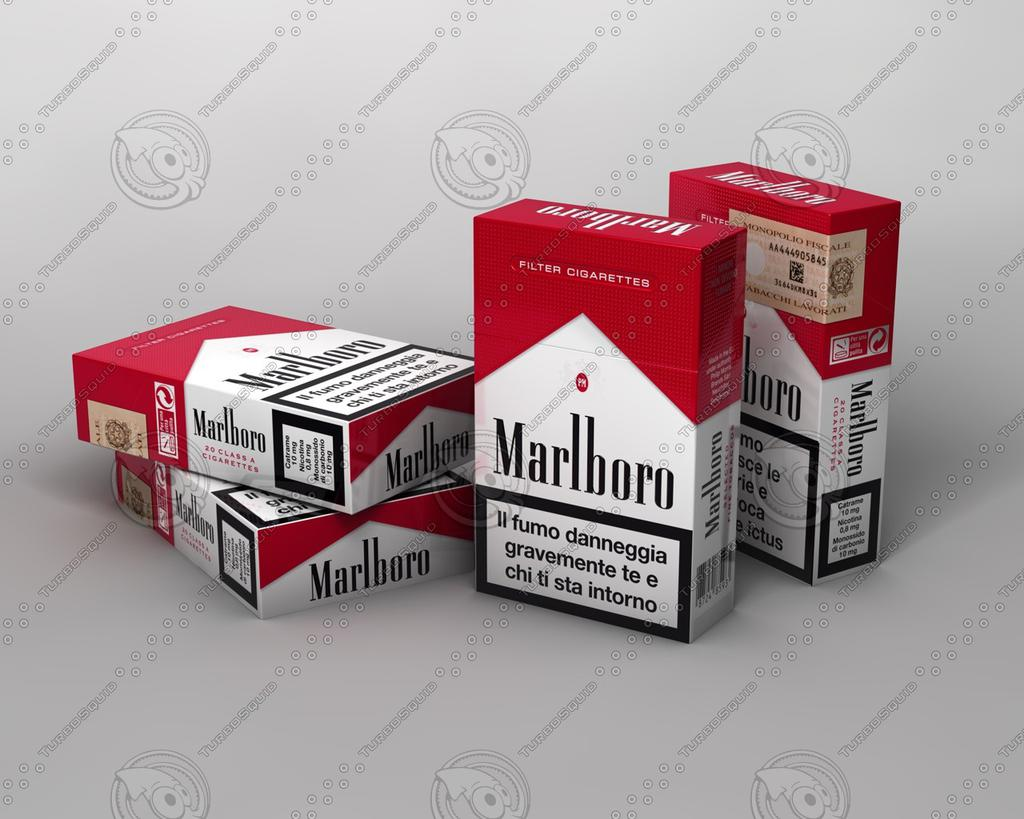marlboro_red: (479, 244, 704, 597), (88, 306, 426, 413), (738, 208, 822, 556)
